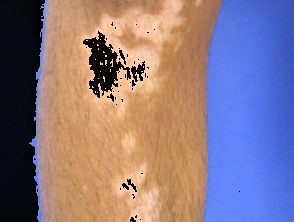vitiligo: (54, 0, 212, 138), (106, 151, 180, 222)
